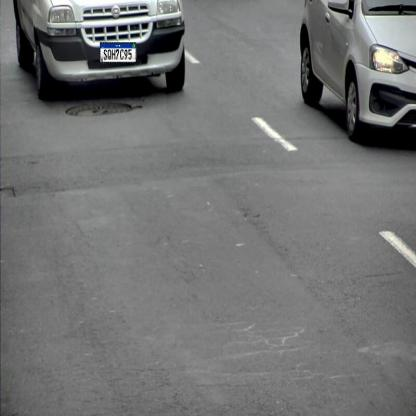PlacaM: (100, 42, 136, 63)
